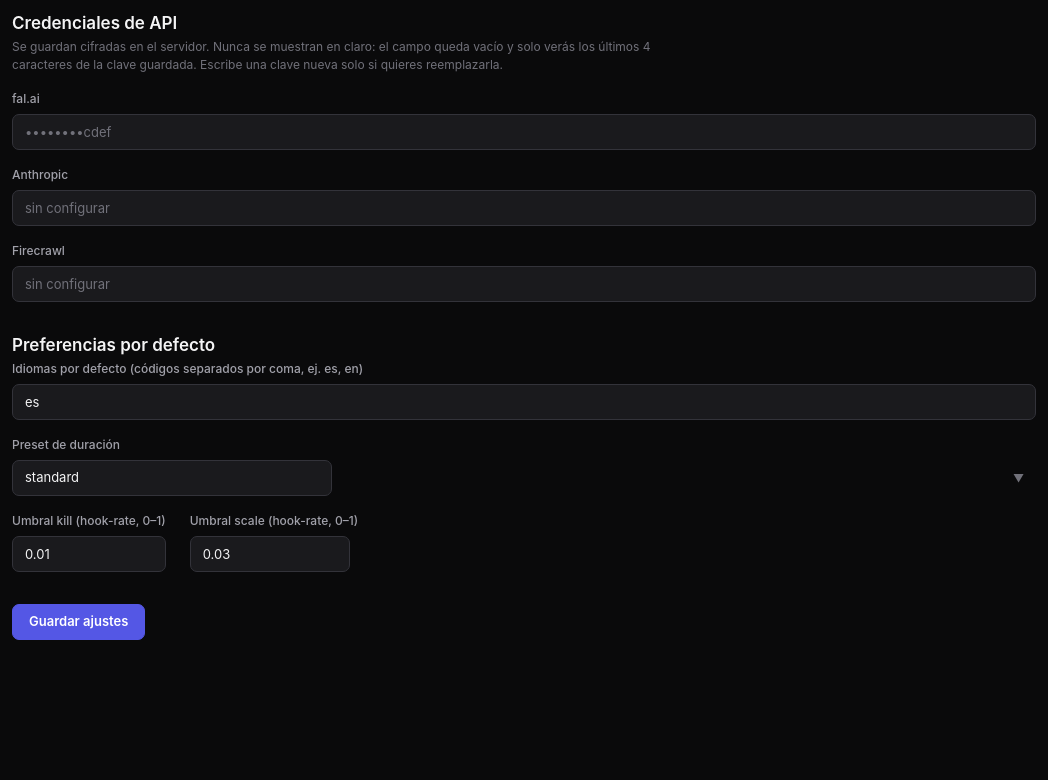
SettingsForm (credenciales write-only, T0.14) › idiomas inválidos (validación cliente) bloquean el submit sin banner de éxito
# Vacía el campo de idiomas → el resolver (zod) lo rechaza en cliente: no hay submit.
Clear the field labelled "Idiomas por defecto (códigos separados por coma, ej. es, en)": (524, 402) [12,384,1036,420]
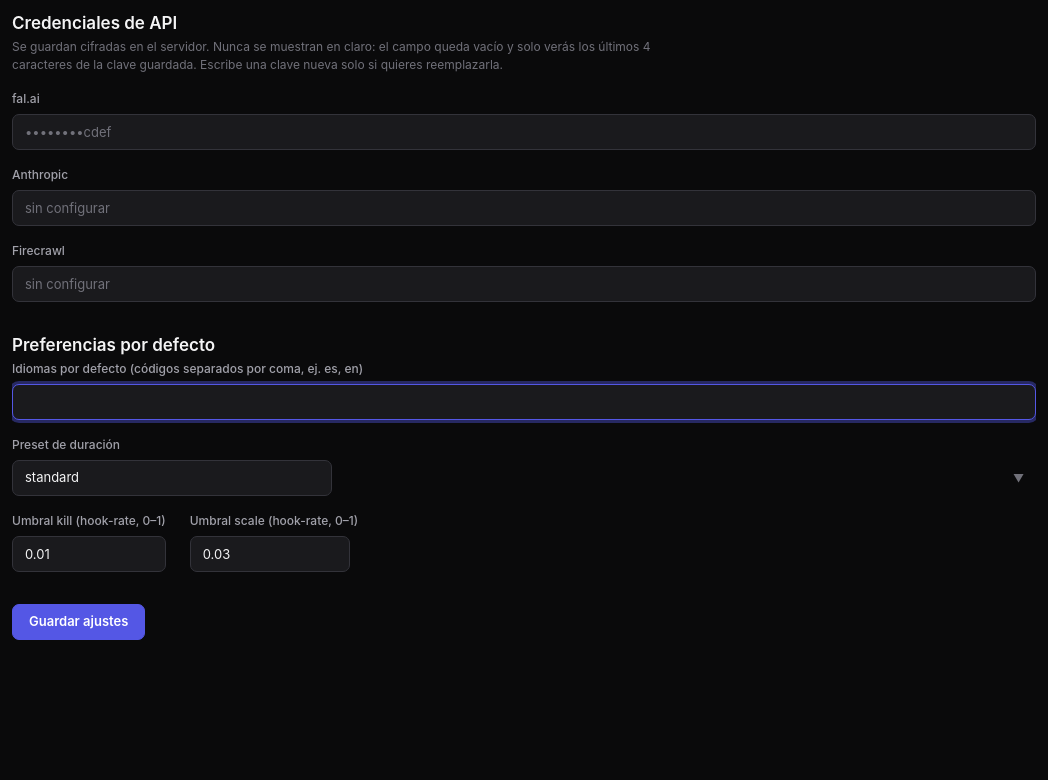
Click the button "Guardar ajustes": (79, 622) [12,604,145,640]
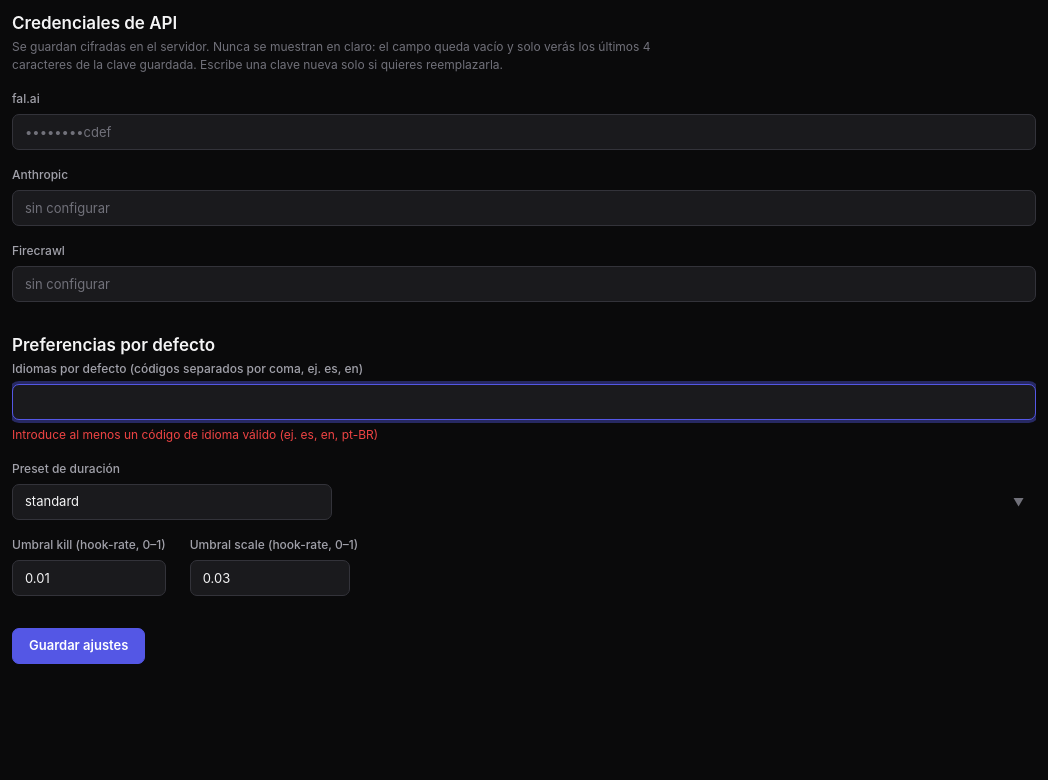
Expected: the text "Introduce al menos un código de idioma válido (ej. es, en, pt-BR)" is shown, [12,427,378,442]
